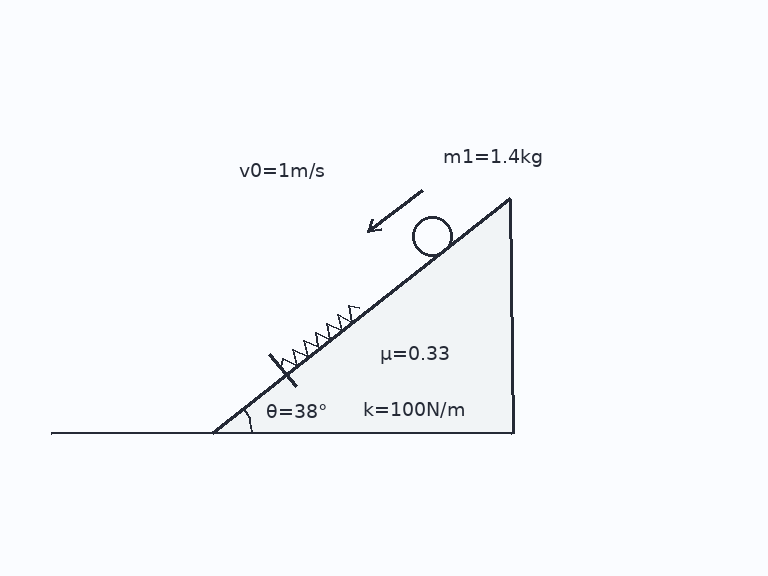ball: (410, 214, 454, 258)
ramp: (210, 198, 513, 435)
spring: (279, 304, 361, 370)
